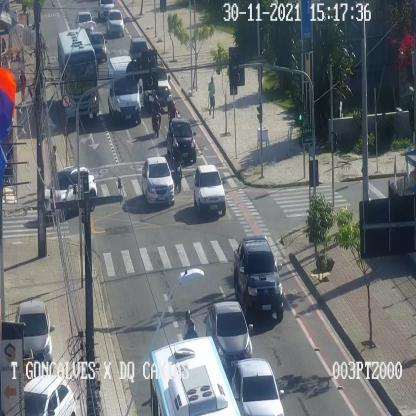bus: (150, 336, 240, 415), (57, 28, 99, 117)
car: (233, 238, 283, 321), (206, 301, 252, 371), (232, 358, 284, 416), (44, 167, 97, 220), (16, 301, 52, 372), (107, 56, 141, 123), (23, 374, 76, 416), (141, 156, 174, 205), (194, 164, 225, 214), (144, 61, 172, 109), (167, 118, 196, 162), (128, 36, 148, 70), (88, 31, 106, 61), (106, 9, 124, 36), (76, 11, 94, 38)
motorbike: (172, 141, 183, 191), (183, 310, 199, 339), (151, 95, 161, 136), (168, 100, 177, 136)
person: (208, 76, 215, 118), (50, 145, 57, 181), (19, 70, 26, 104)
